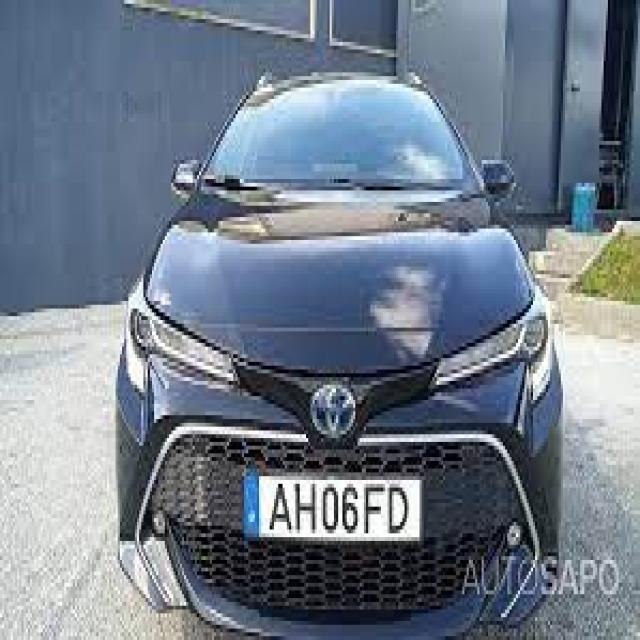portuguese-license-plates: (240, 471, 428, 545)
